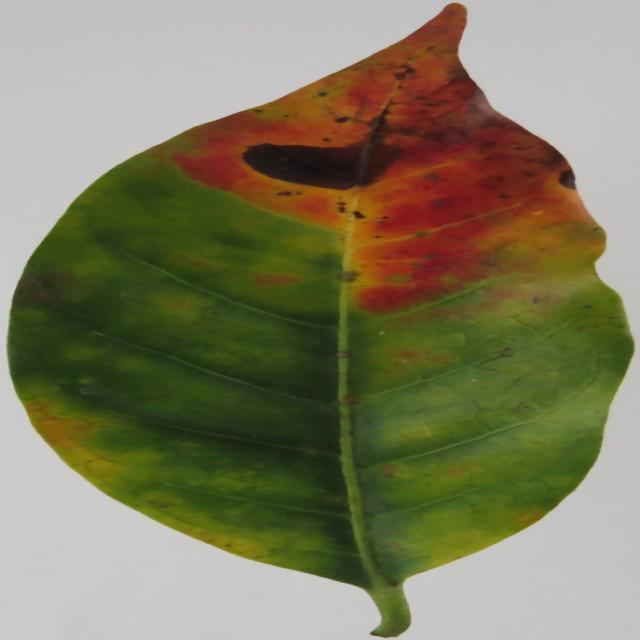DeficienciaNutricional-Fosforo: (9, 5, 631, 635)
